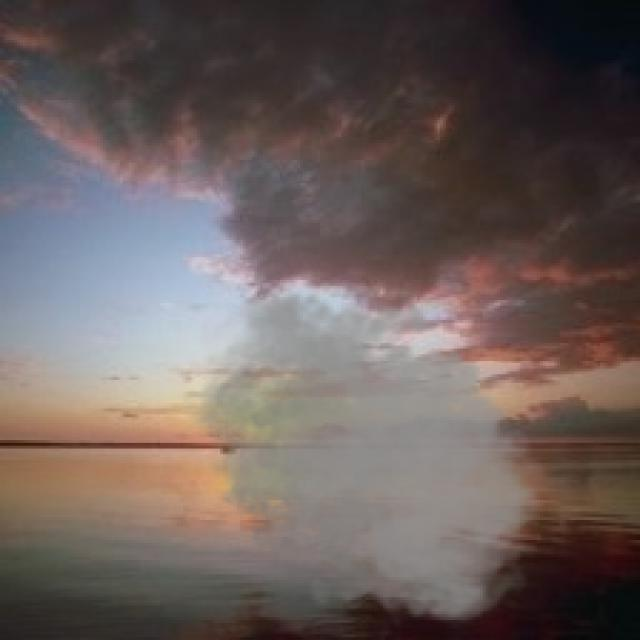smoke: (172, 280, 552, 629)
